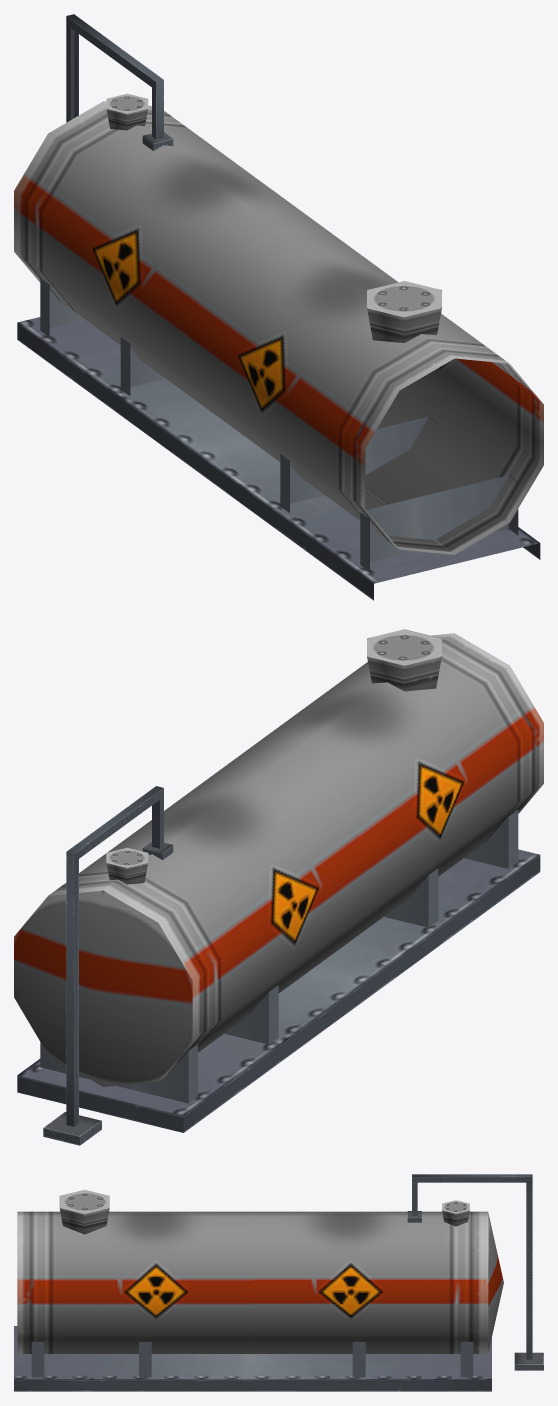
The model's file is fuel_tank_large.fbx.
3 renders of one model, top to bottom at view 1: azimuth 30°, elevation 25°; view 2: azimuth 150°, elevation 25°; view 3: azimuth 270°, elevation 25°, orthographic. The views are drawn at different scales.
Visible parts, largest first — view 1: fuel_tank_large; view 2: fuel_tank_large; view 3: fuel_tank_large.
Boxes of the visible parts, x1,y1,x2,y2 form: fuel_tank_large: [14, 14, 543, 600]; fuel_tank_large: [14, 629, 543, 1145]; fuel_tank_large: [14, 1174, 543, 1391].
Size of the model in its own units: 4.1 by 6.19 by 15.74.
1 material, 1 textured.
